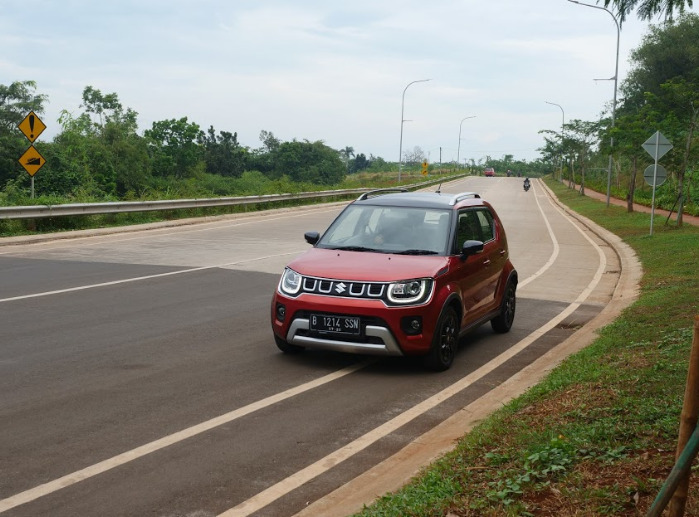car: (259, 185, 524, 379)
